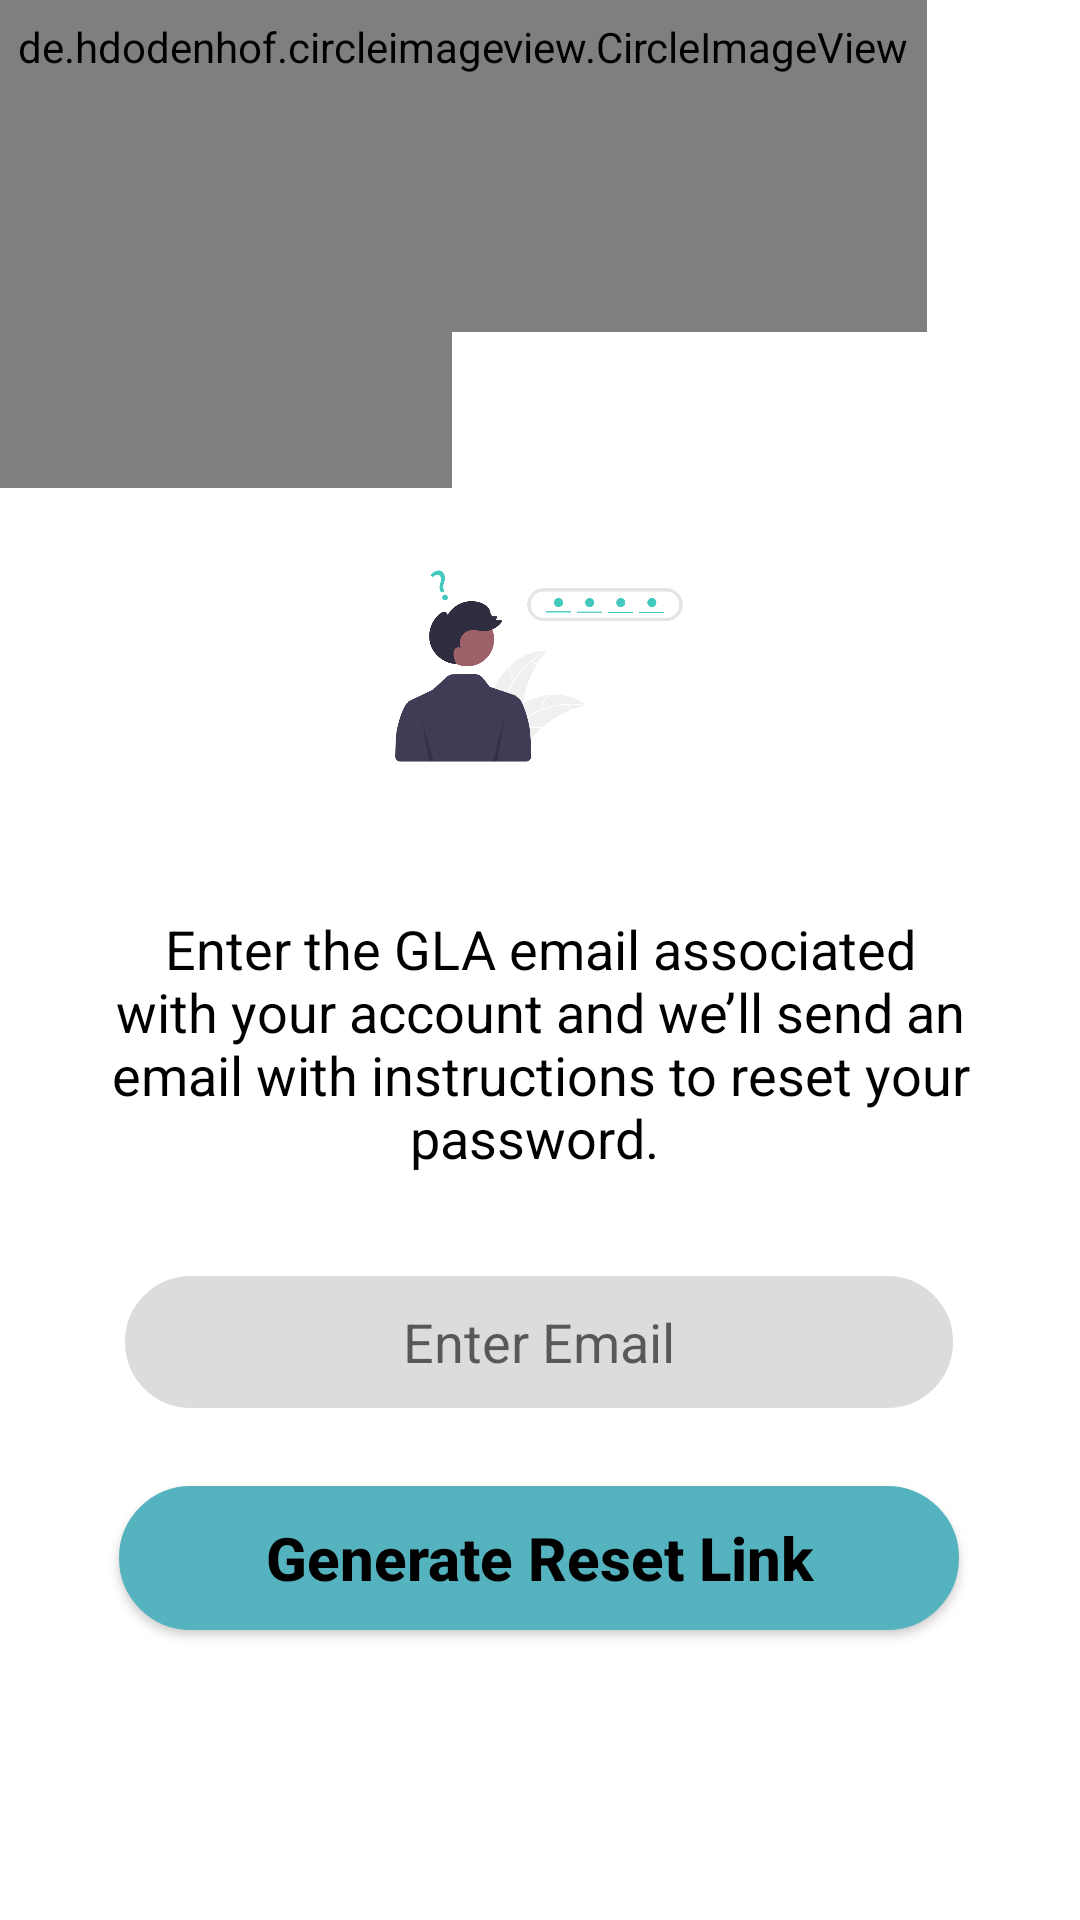

Icons on this 1080×1920 Android screen, each with its box as (x1, y1, x2, y2):
forgetpassword: (395, 570, 683, 762)
